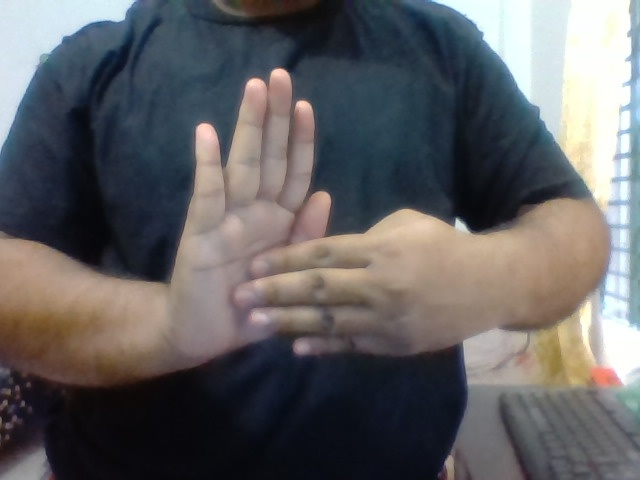H: (159, 61, 492, 368)
